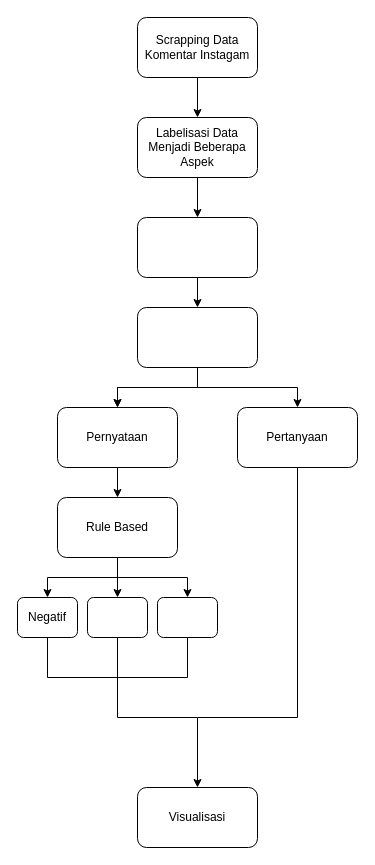
The diagram is 375 pixels wide and 865 high, and some of its shapes have lost their labels. The shapes that lost their labels are listed below. From the top down, each one's box as (x1, y1, x2, y2) in pixels, then its label:
(136, 216, 258, 278): Data Preprocessing
(136, 306, 258, 368): Analisis Sentimen
(86, 596, 148, 638): Netral
(156, 596, 218, 638): Positif
